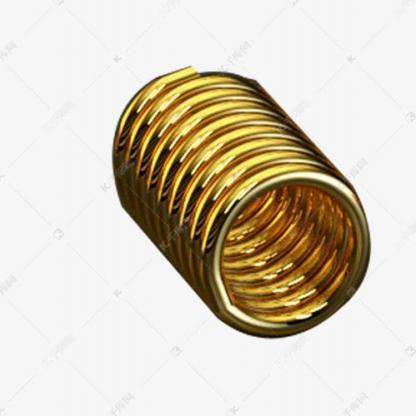FOD: (108, 62, 376, 342)
